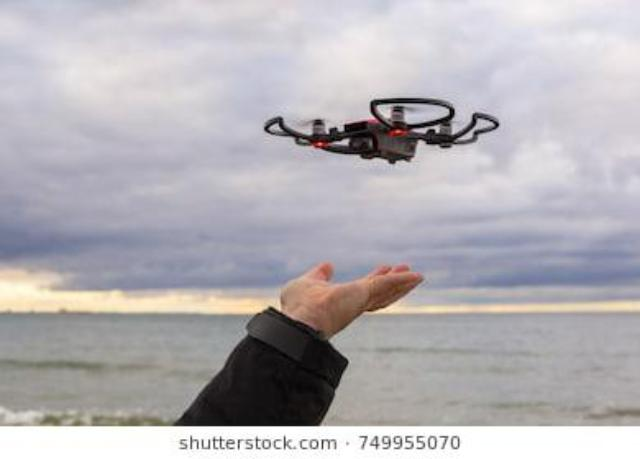drone: (262, 52, 508, 207)
